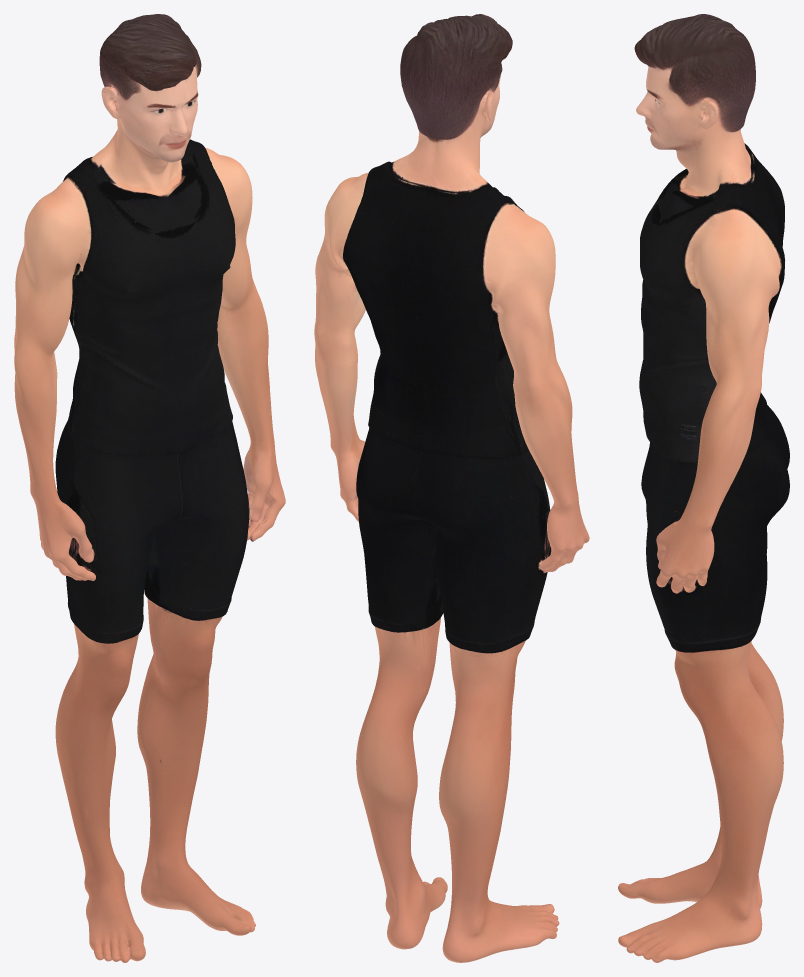
Rendered from male-avatar.optimized.glb.
3 views of the same model, side by side, from view 1: azimuth 30°, elevation 25°; view 2: azimuth 150°, elevation 25°; view 3: azimuth 270°, elevation 25° (orthographic).
Parts seen in each view (by area): view 1: Mesh_0; view 2: Mesh_0; view 3: Mesh_0.
Boxes of the visible parts, x1,y1,x2,y2 form: Mesh_0: (14,14,285,962); Mesh_0: (314,14,589,962); Mesh_0: (618,14,789,962).
Size of the model in its own units: 0.5426 by 1.9 by 0.3268.
1 material, 1 textured.
